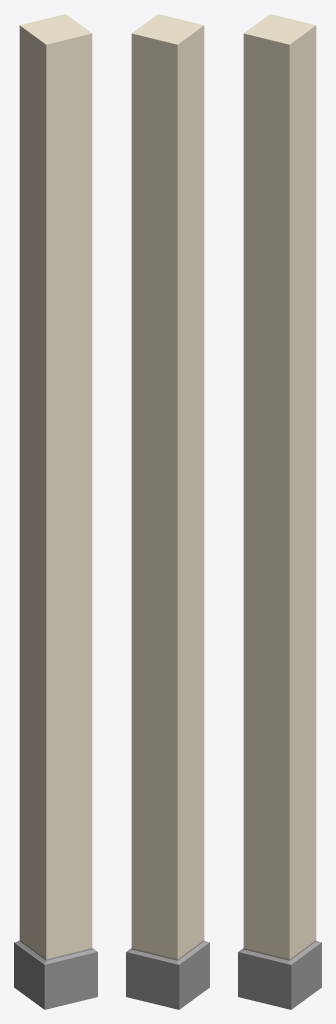
The model's file is Wall_FBX.fbx.
3 renders of one model, left to right at view 1: azimuth 30°, elevation 25°; view 2: azimuth 150°, elevation 25°; view 3: azimuth 330°, elevation 25°, orthographic.
Parts seen in each view (by area): view 1: pCube1; view 2: pCube1; view 3: pCube1.
Boxes of the visible parts, x1,y1,x2,y2 form: pCube1: [14, 14, 97, 1009]; pCube1: [126, 14, 209, 1009]; pCube1: [238, 14, 321, 1009].
Size of the model in its own units: 1.15 by 20 by 1.15.
